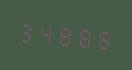eight: (75, 20, 93, 52), (56, 19, 74, 50)
four: (37, 17, 55, 49)
six: (94, 22, 112, 53)
three: (18, 15, 36, 47)
